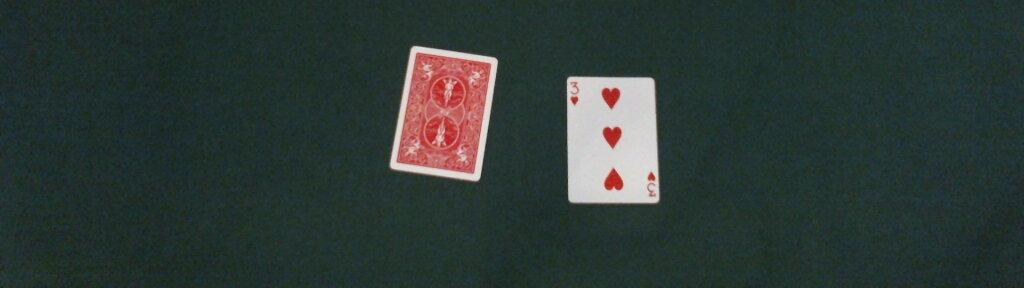back: (389, 44, 499, 180)
three: (563, 76, 659, 204)
